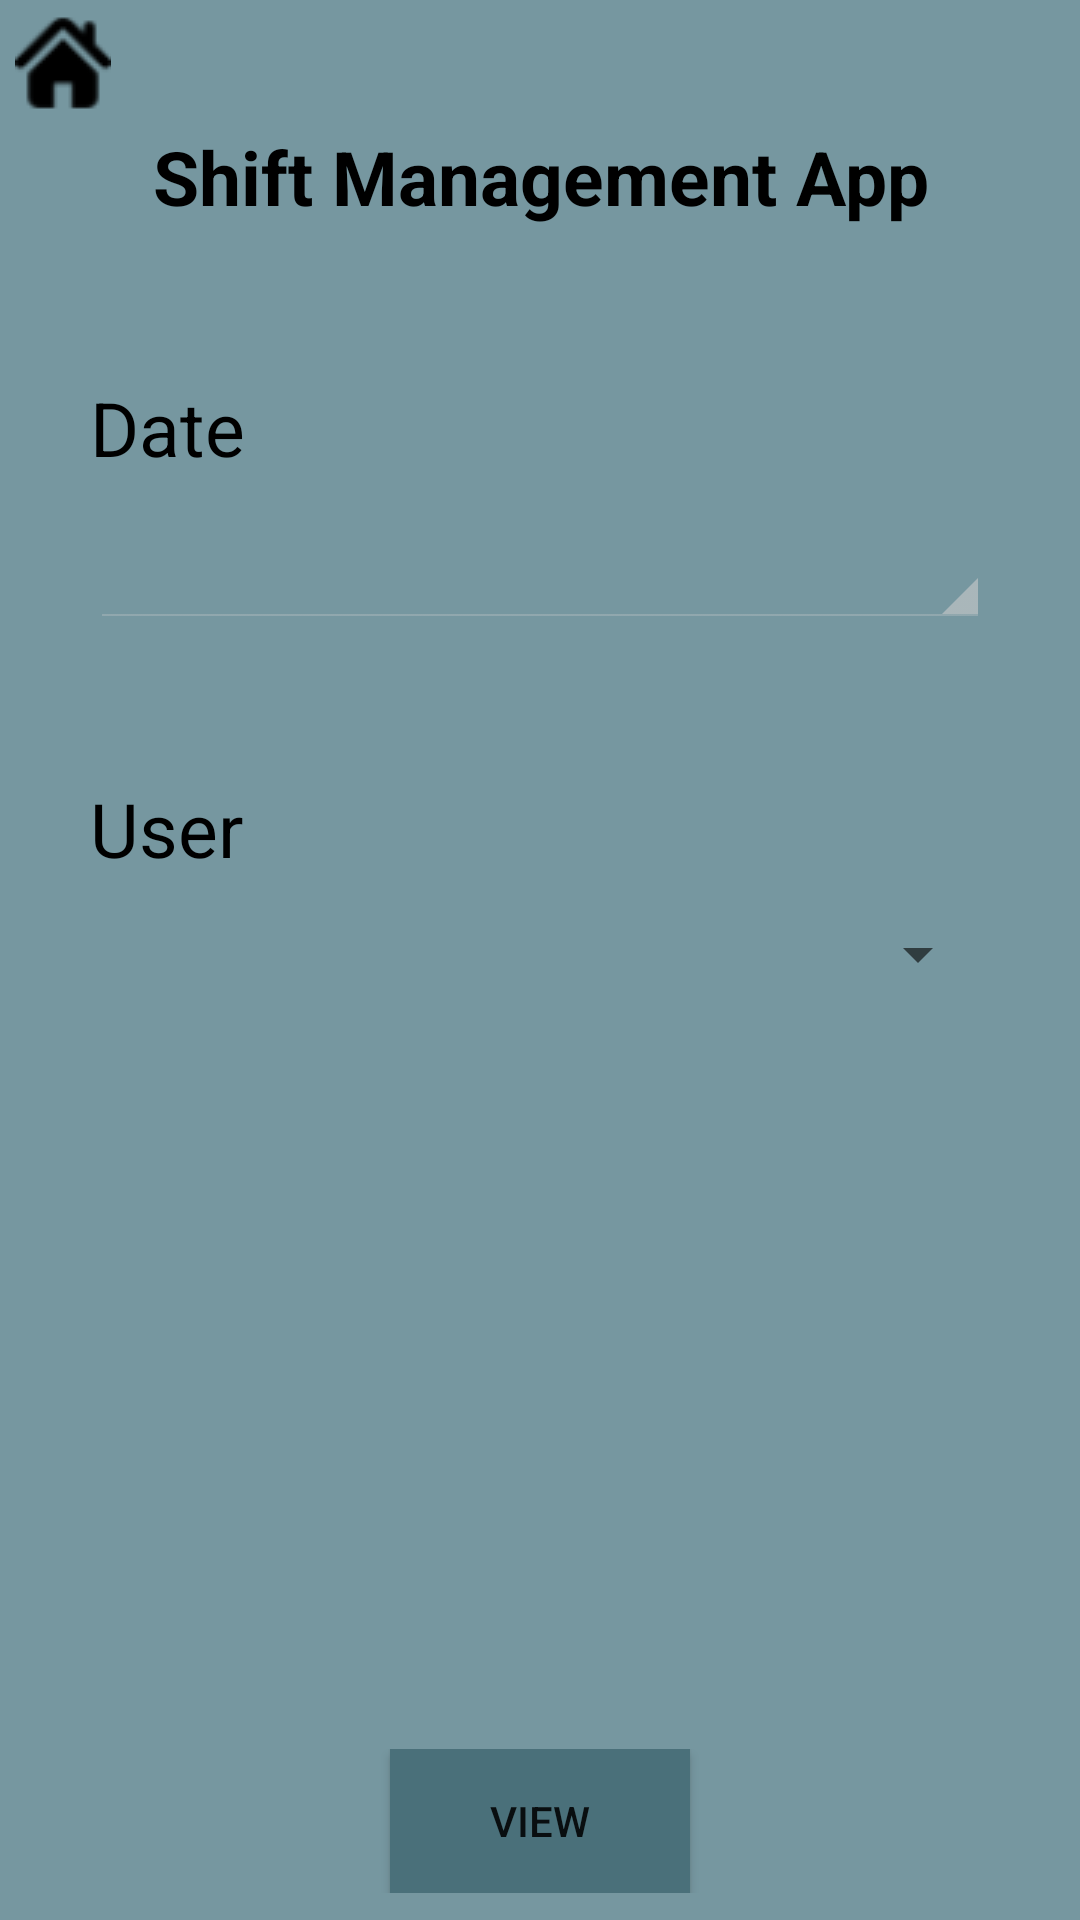

Screen size 1080w x 1920h. Icon name, then its box in pixels as rect(x1, y1, x2, y2):
home: rect(15, 17, 111, 109)
